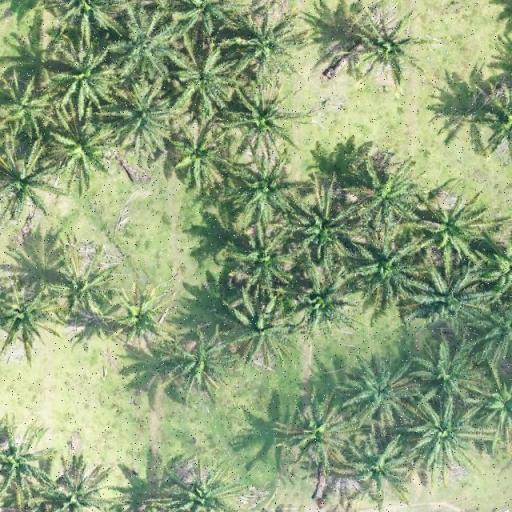Ganoderma: (362, 22, 412, 73), (118, 296, 166, 340), (2, 298, 47, 344), (174, 344, 222, 386), (62, 263, 106, 308)
